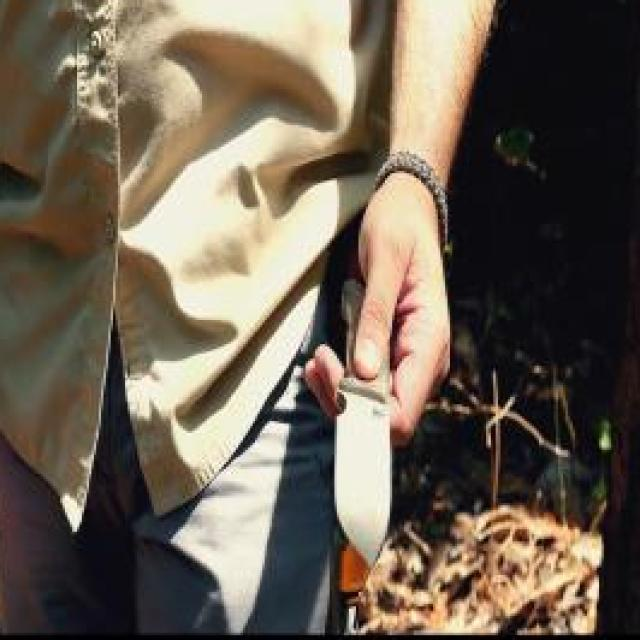knife: (301, 274, 457, 573)
